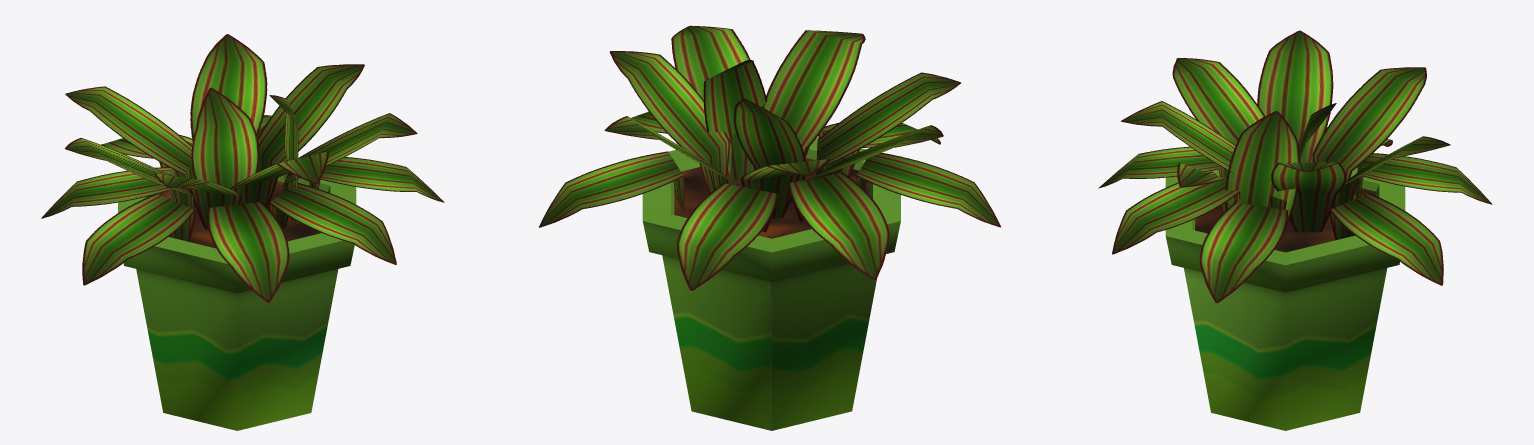
The model's file is Potted Plant_C_3.FBX.
The picture shows the model from 3 angles, left to right: view 1: azimuth 30°, elevation 25°; view 2: azimuth 150°, elevation 25°; view 3: azimuth 270°, elevation 25°; orthographic projection. The views are drawn at different scales.
Visible parts, largest first — view 1: Potted Plant _B; view 2: Potted Plant _B; view 3: Potted Plant _B.
Boxes of the visible parts, <box> form: Potted Plant _B: <box>41,34,444,430</box>; Potted Plant _B: <box>538,25,1000,430</box>; Potted Plant _B: <box>1098,30,1492,430</box>.
Size of the model in its own units: 151 by 108 by 143.
Materials: 2 (2 with a texture image).
